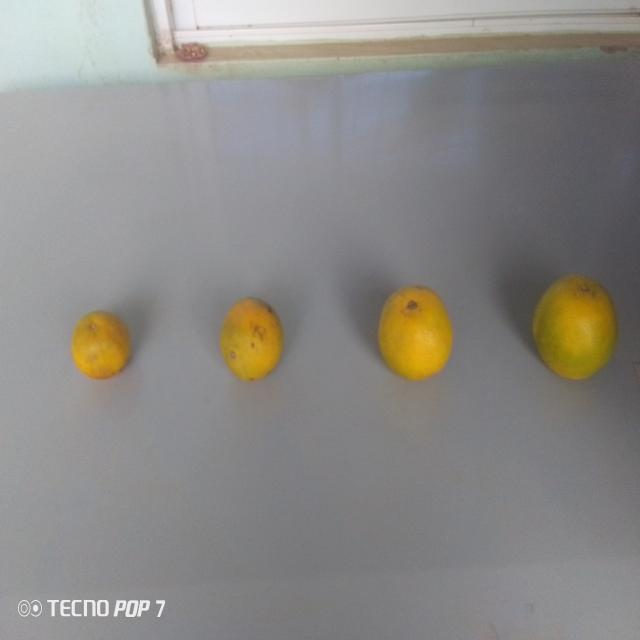Ripe orange: (524, 272, 622, 384), (373, 282, 455, 387), (212, 292, 291, 386), (63, 305, 138, 388)
